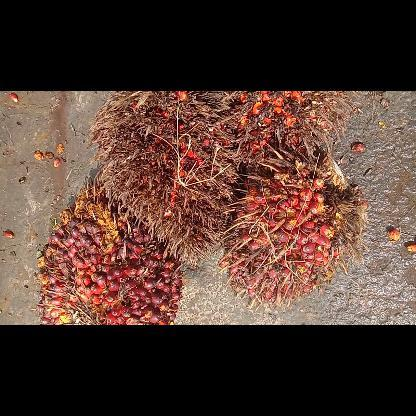TBS masak: (218, 143, 368, 311), (38, 176, 182, 324)
Terlalu masak: (88, 91, 242, 268), (232, 90, 354, 188)
